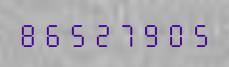eight: (17, 20, 40, 47)
five: (65, 20, 88, 47), (185, 20, 208, 47)
nine: (137, 20, 160, 47)
seven: (113, 20, 136, 47)
six: (41, 20, 64, 47)
two: (89, 20, 112, 47)
zero: (161, 20, 184, 47)
